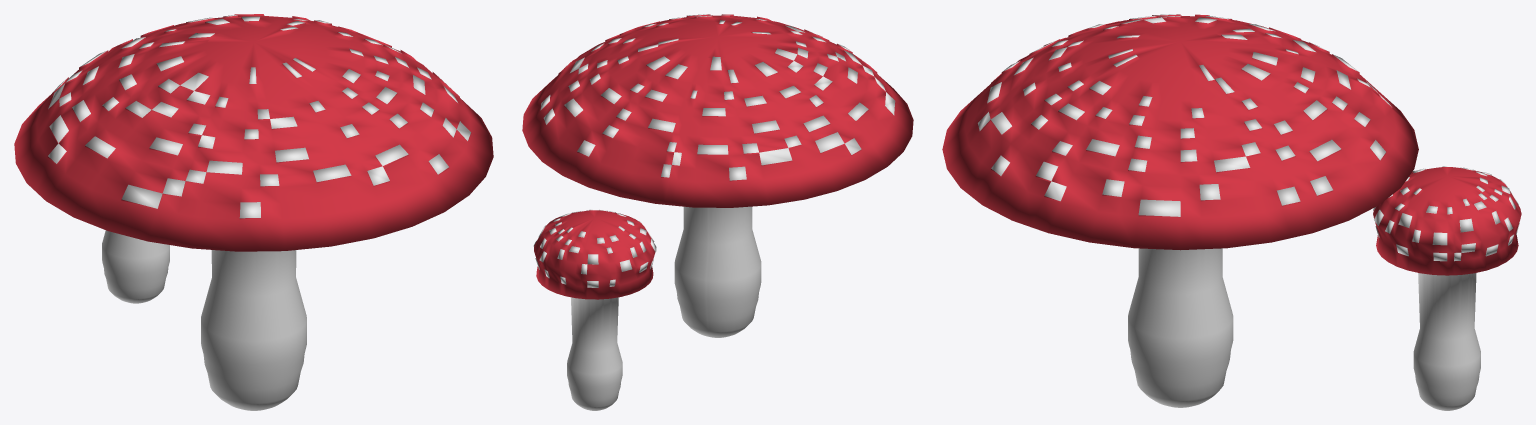
File: flyAgaric.glb
3 views of the same model, side by side, from view 1: azimuth 30°, elevation 25°; view 2: azimuth 150°, elevation 25°; view 3: azimuth 270°, elevation 25° (orthographic). The views are drawn at different scales.
Parts seen in each view (by area): view 1: flyAgaric; view 2: flyAgaric; view 3: flyAgaric.
Boxes of the visible parts, x1,y1,x2,y2 form: flyAgaric: (14,14,493,410); flyAgaric: (522,14,913,410); flyAgaric: (942,14,1521,410).
Size of the model in its own units: 1.54 by 1.29 by 1.87.
